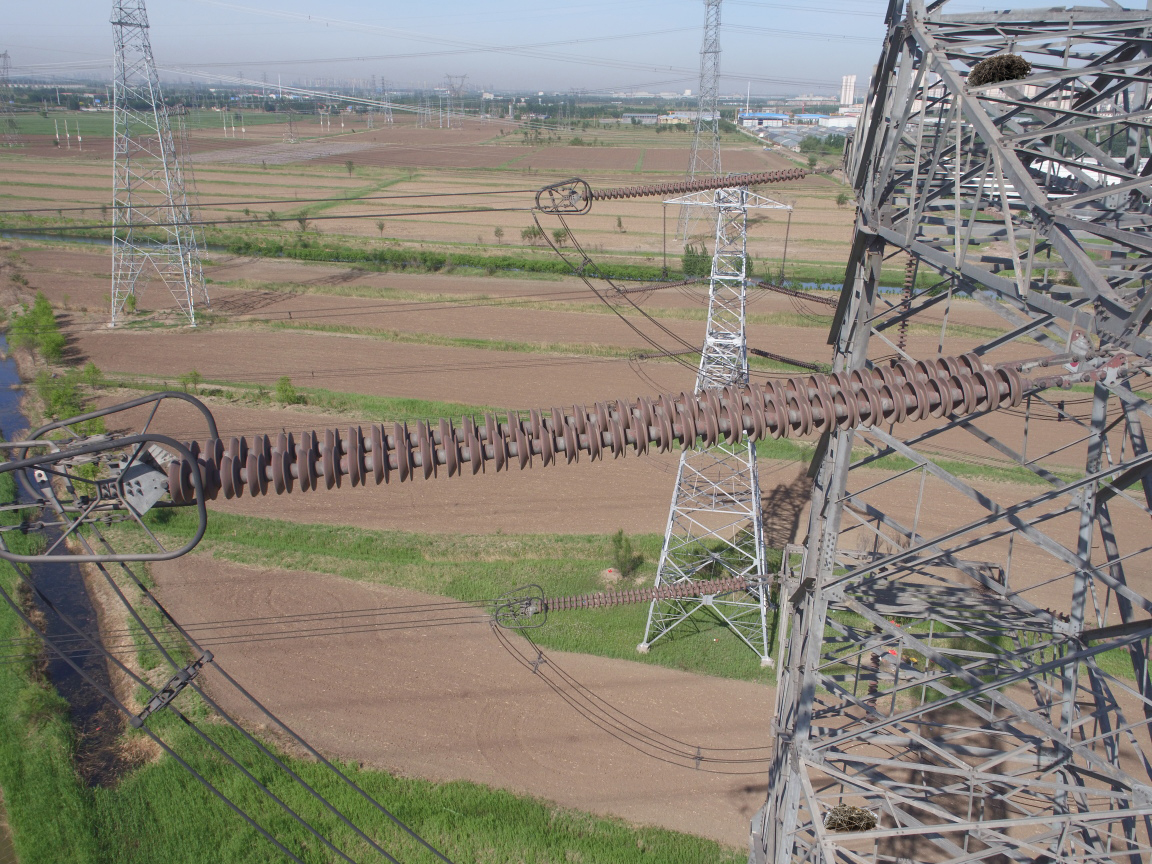nest: (960, 42, 1034, 96), (815, 802, 884, 838)
